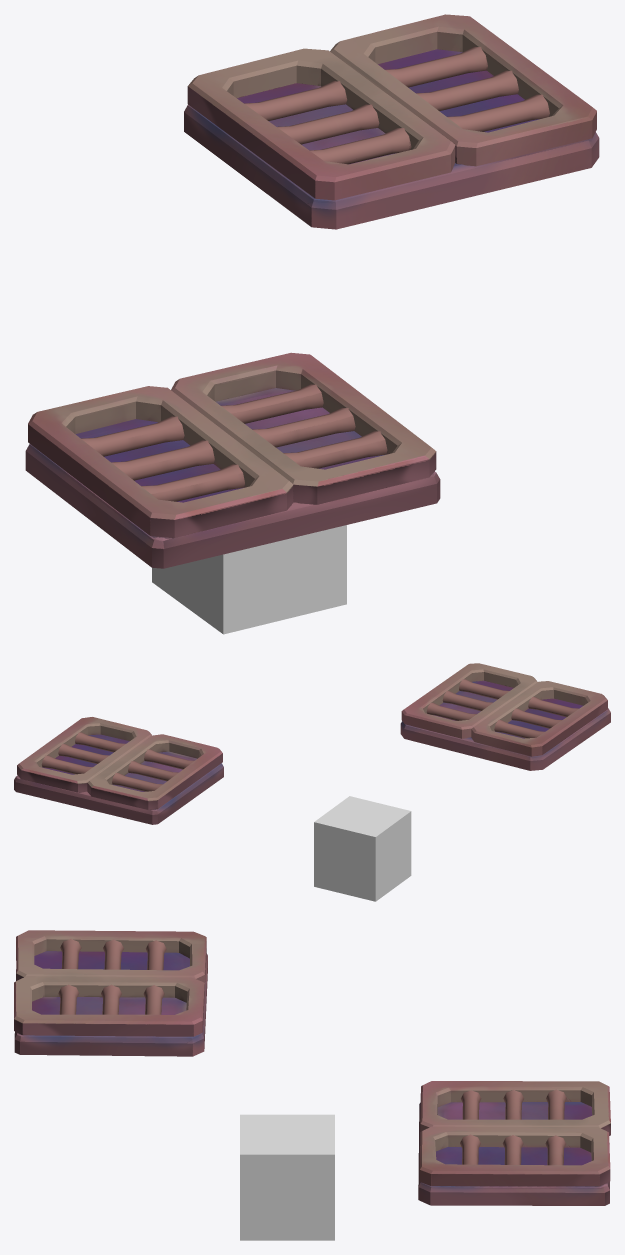
File: battlescence-4-floor004.fbx
3 views of the same model, one above another, from view 1: azimuth 30°, elevation 25°; view 2: azimuth 150°, elevation 25°; view 3: azimuth 270°, elevation 25° (orthographic). The views are drawn at different scales.
Parts seen in each view (by area): view 1: Cube.078, Cube.093, battlescence-4-floor004; view 2: Cube.093, Cube.078, battlescence-4-floor004; view 3: Cube.093, Cube.078, battlescence-4-floor004.
Part boxes in pixels (left/top/right/bottom): Cube.078: left=184, top=14, right=599, bottom=229; Cube.093: left=25, top=352, right=440, bottom=568; battlescence-4-floor004: left=152, top=525, right=346, bottom=634; Cube.093: left=400, top=663, right=610, bottom=770; Cube.078: left=14, top=717, right=223, bottom=824; battlescence-4-floor004: left=314, top=796, right=411, bottom=901; Cube.093: left=14, top=930, right=207, bottom=1056; Cube.078: left=418, top=1081, right=610, bottom=1205; battlescence-4-floor004: left=240, top=1114, right=334, bottom=1240.
Bounding box in the file's own units: 757 × 283 × 778.
